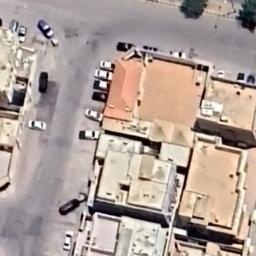sedan: (36, 18, 56, 38), (76, 127, 105, 140), (83, 106, 105, 120), (92, 70, 115, 82), (28, 118, 48, 130), (62, 228, 74, 248), (18, 25, 28, 45), (98, 60, 118, 70)
unknown: (58, 196, 81, 216)
